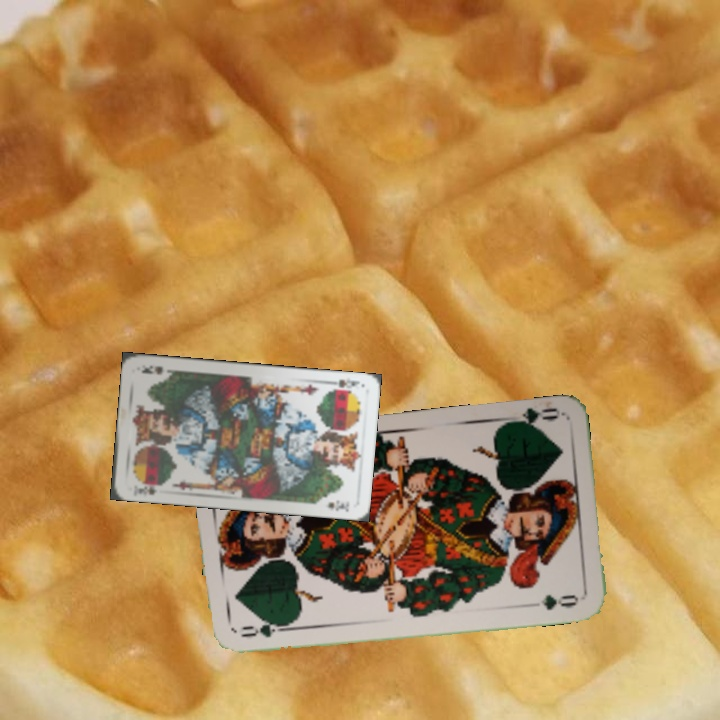GO: (503, 403, 561, 432), (237, 619, 293, 640)
SK: (324, 374, 362, 394), (133, 478, 160, 498)
